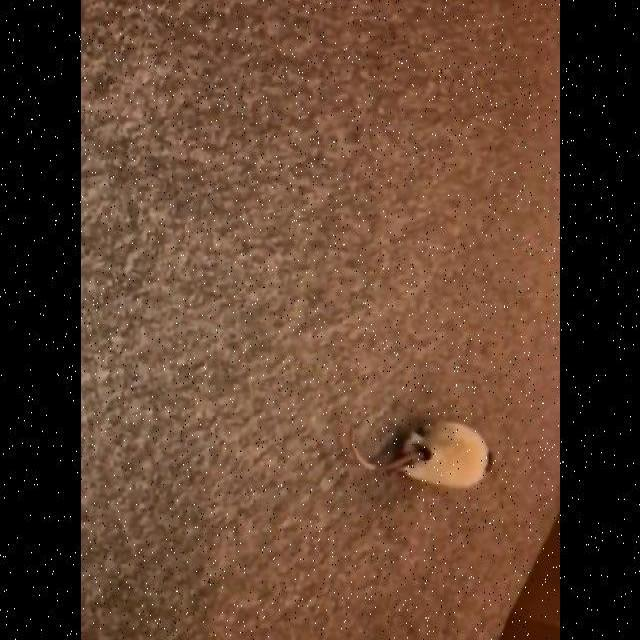rat: (345, 415, 503, 492)
